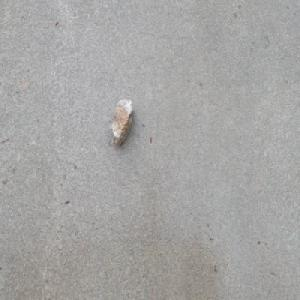Rock: (110, 98, 134, 146)
